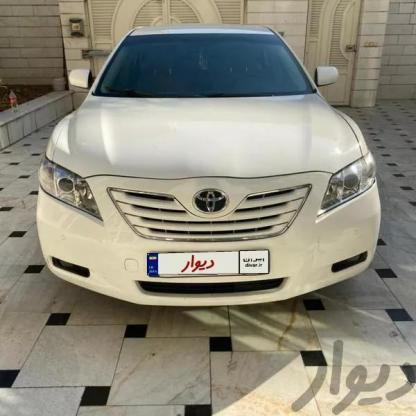Car: (31, 28, 386, 304)
